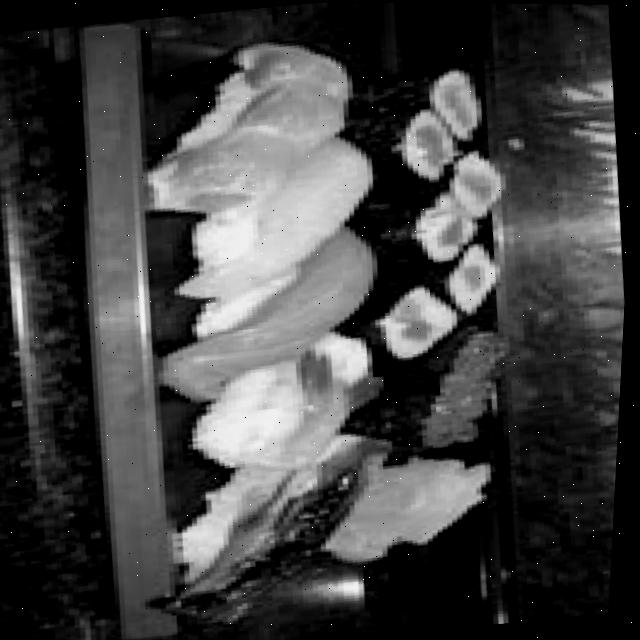寿司卷物: (45, 0, 600, 640)
